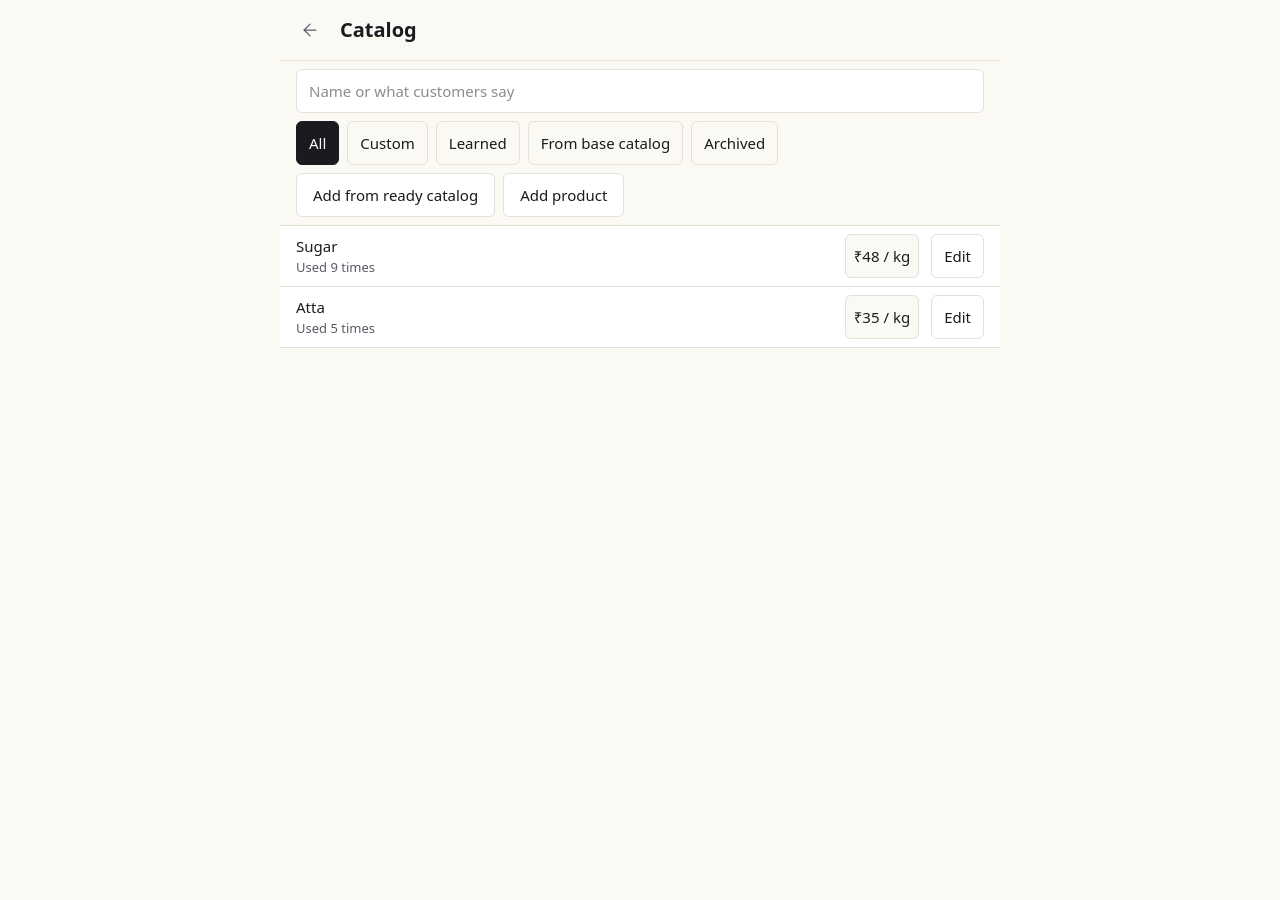
Scenario: KB-330 - Edit product: rename and other names › a name already used - by an active OR an archived product - is refused before any write
Expected: the list named "Products" is shown, [280,226,1000,348]
Click the button with aria-label "Edit Sugar" at (958, 256), box [931,234,984,278]
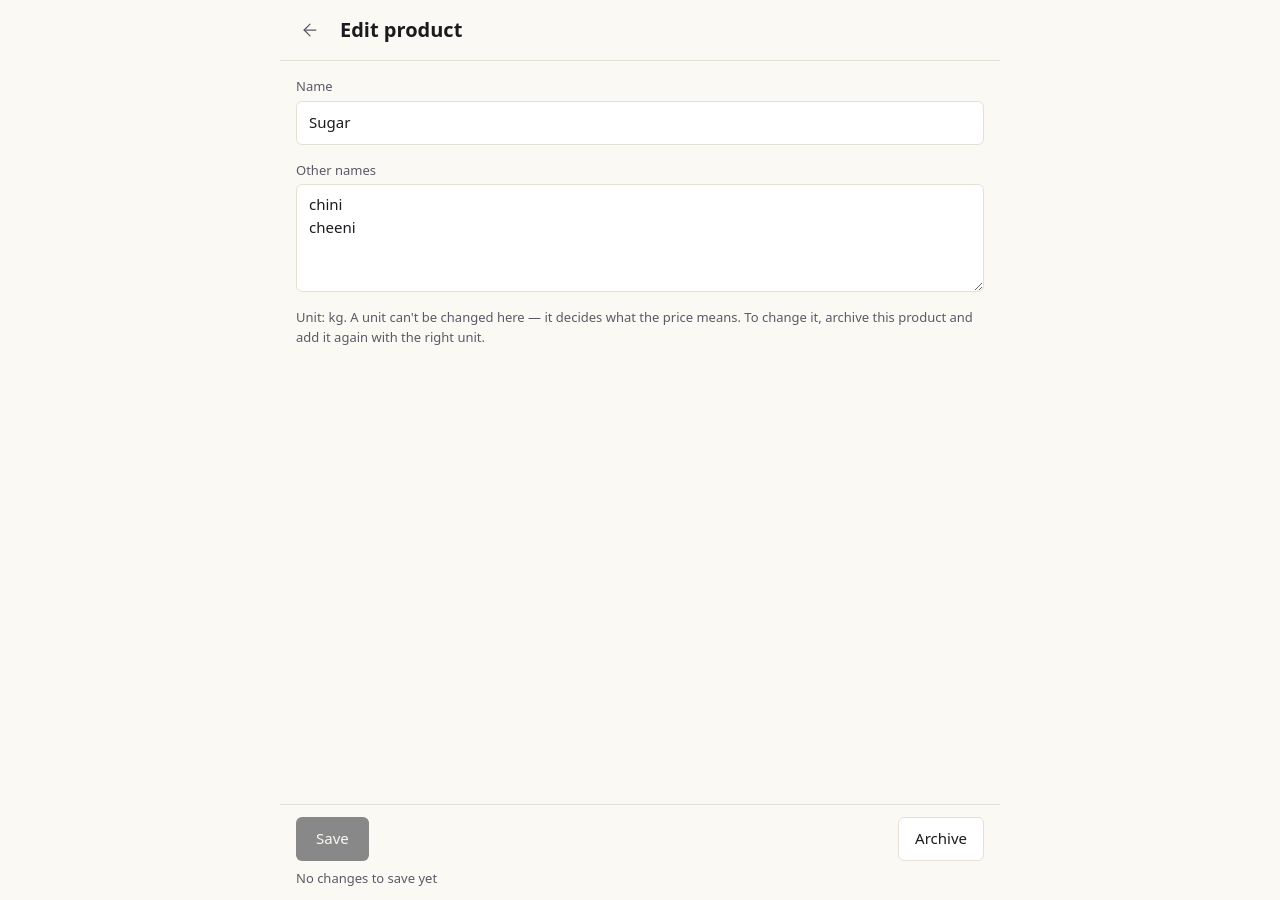
Replace the text in the field labelled "Name" with "atta" at (640, 122), box [296,100,984,144]
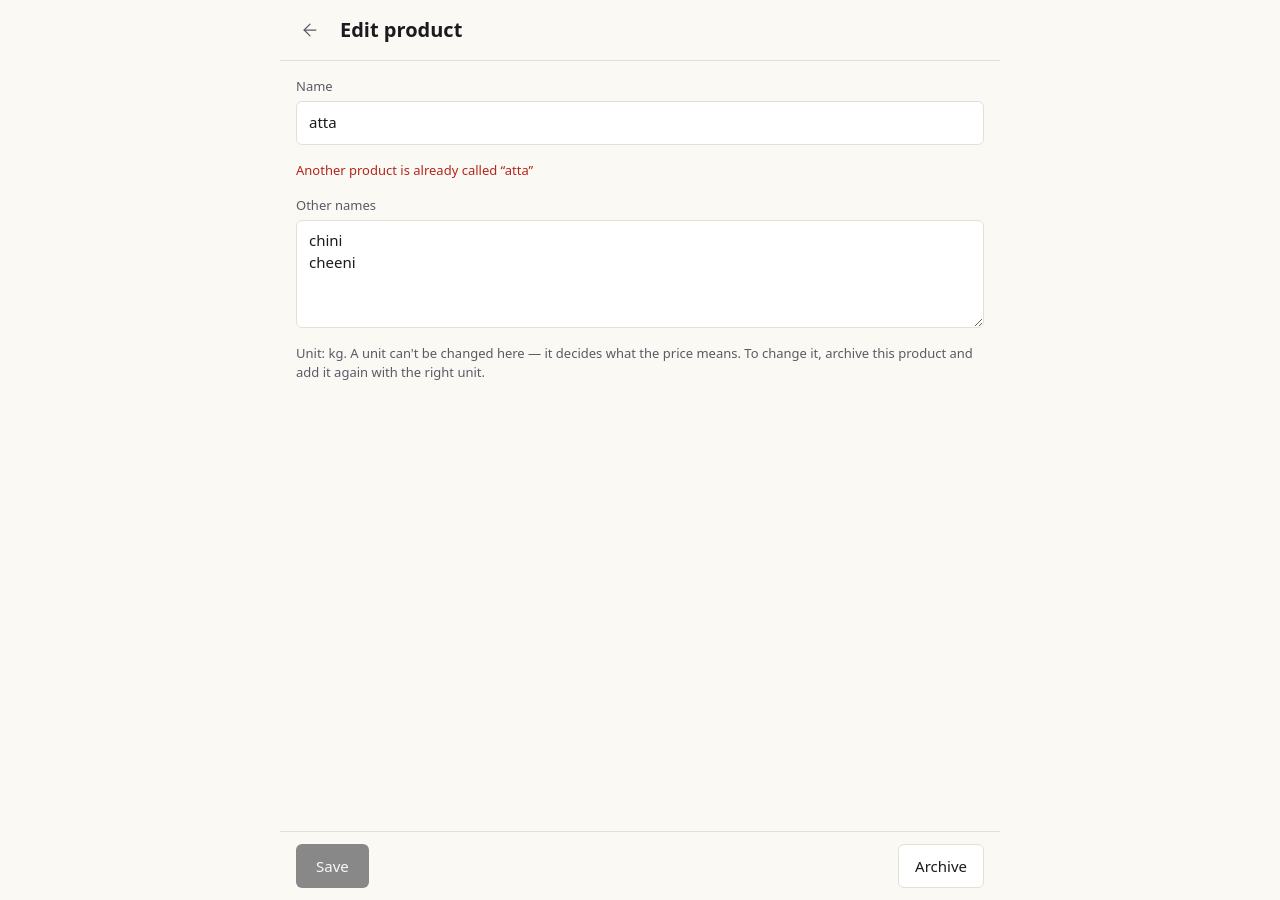
Result: the button "Save" is disabled at [296,844,369,888]
Result: the message reads "Another product is already called “atta”" at [296,160,533,178]
Replace the text in the field labelled "Name" with "OLD SOAP" at (640, 122), box [296,100,984,144]
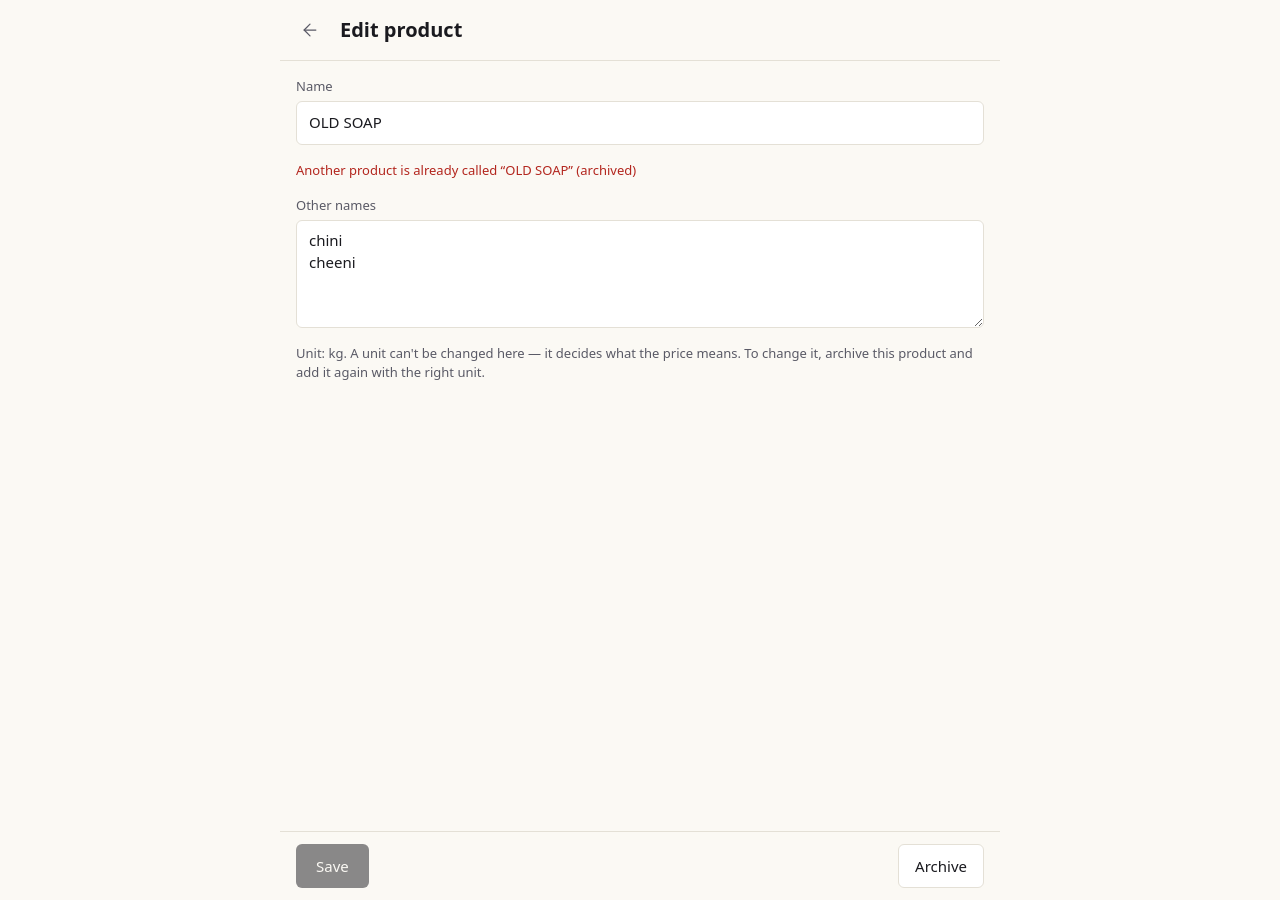
Result: the message reads "Another product is already called “OLD SOAP” (archived)" at [296,160,636,178]
